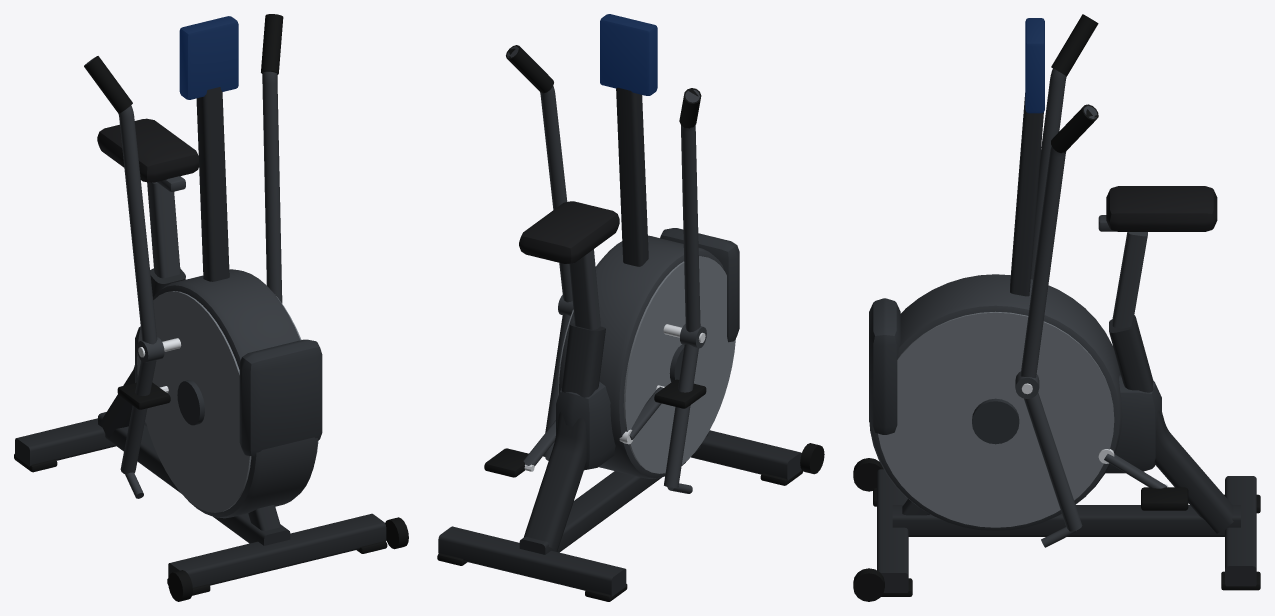
The model's file is bike_air.glb.
3 renders of one model, left to right at view 1: azimuth 30°, elevation 25°; view 2: azimuth 150°, elevation 25°; view 3: azimuth 270°, elevation 25°, orthographic. The views are drawn at different scales.
Visible parts, largest first — view 1: bike_air; view 2: bike_air; view 3: bike_air.
Boxes of the visible parts, x1,y1,x2,y2 form: bike_air: (14, 14, 408, 601); bike_air: (437, 14, 824, 601); bike_air: (853, 14, 1260, 601).
Size of the model in its own units: 0.69 by 1.44 by 1.03.
